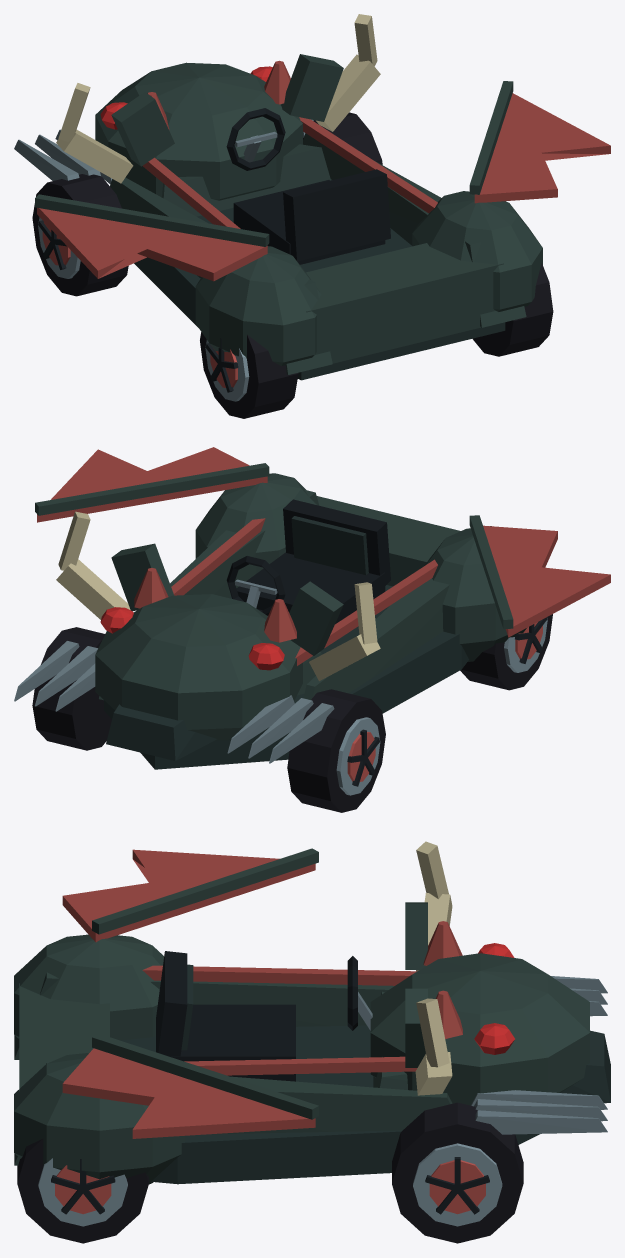
Rendered from kart.glb.
3 views of the same model, one above another, from view 1: azimuth 30°, elevation 25°; view 2: azimuth 150°, elevation 25°; view 3: azimuth 270°, elevation 25° (orthographic). The views are drawn at different scales.
Parts seen in each view (by area): view 1: identity-beast-beast-sculpted-prow-and-haunches, identity-beast-motif-dragon-wings, identity-beast-driver-cockpit, identity-beast-motif-horns, wheel-rear-left, wheel-front-left, wheel-rear-right, identity-beast-motif-claws, wheel-front-right; view 2: identity-beast-beast-sculpted-prow-and-haunches, identity-beast-motif-dragon-wings, identity-beast-driver-cockpit, wheel-front-left, identity-beast-motif-claws, identity-beast-motif-horns, wheel-front-right, wheel-rear-left; view 3: identity-beast-beast-sculpted-prow-and-haunches, identity-beast-motif-dragon-wings, wheel-front-right, identity-beast-driver-cockpit, wheel-rear-right, identity-beast-motif-claws, identity-beast-motif-horns.
Boxes of the visible parts, box(x1,y1,x2,y2) form: identity-beast-beast-sculpted-prow-and-haunches: box(95, 54, 542, 380); identity-beast-motif-dragon-wings: box(35, 81, 610, 281); identity-beast-driver-cockpit: box(226, 108, 390, 264); identity-beast-motif-horns: box(56, 14, 380, 183); wheel-rear-left: box(200, 332, 298, 418); wheel-front-left: box(32, 174, 128, 296); wheel-rear-right: box(472, 263, 553, 356); identity-beast-motif-claws: box(14, 119, 313, 184); wheel-front-right: box(303, 112, 382, 164); identity-beast-beast-sculpted-prow-and-haunches: box(95, 473, 526, 769); identity-beast-motif-dragon-wings: box(35, 447, 610, 637); identity-beast-driver-cockpit: box(226, 499, 390, 624); wheel-front-left: box(287, 689, 385, 812); identity-beast-motif-claws: box(14, 641, 334, 763); identity-beast-motif-horns: box(56, 511, 380, 681); wheel-front-right: box(32, 627, 111, 750); wheel-rear-left: box(460, 614, 552, 690); identity-beast-beast-sculpted-prow-and-haunches: box(14, 902, 610, 1184); identity-beast-motif-dragon-wings: box(62, 848, 318, 1138); wheel-front-right: box(392, 1102, 523, 1243); identity-beast-driver-cockpit: box(156, 951, 372, 1081); wheel-rear-right: box(17, 1139, 148, 1243); identity-beast-motif-claws: box(471, 976, 607, 1134); identity-beast-motif-horns: box(415, 841, 452, 1095).
Size of the model in its own units: 3.22 by 1.29 by 2.9.
